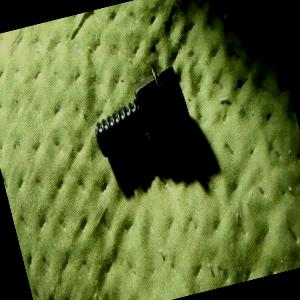parafuso: (80, 53, 197, 166)
